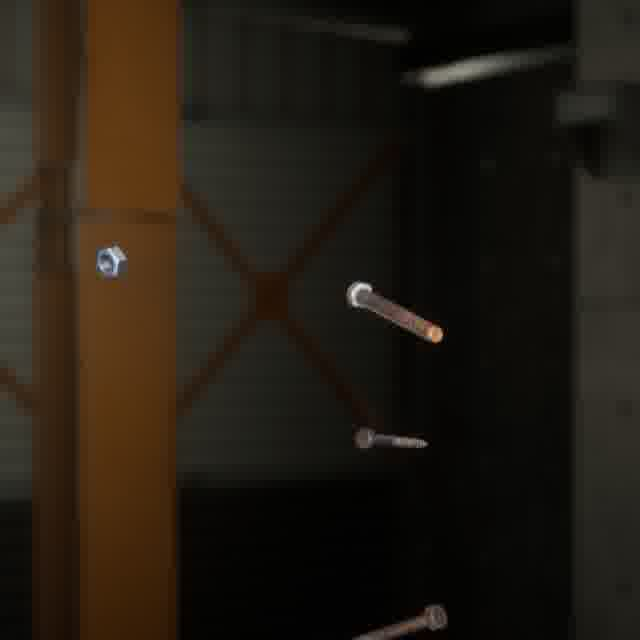bolt: (342, 276, 447, 346), (344, 599, 451, 640), (350, 423, 431, 453)
nut: (90, 241, 131, 282)
